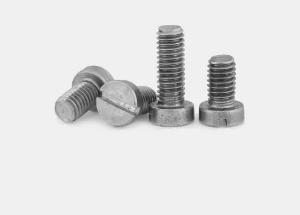screw: (98, 81, 140, 128)
